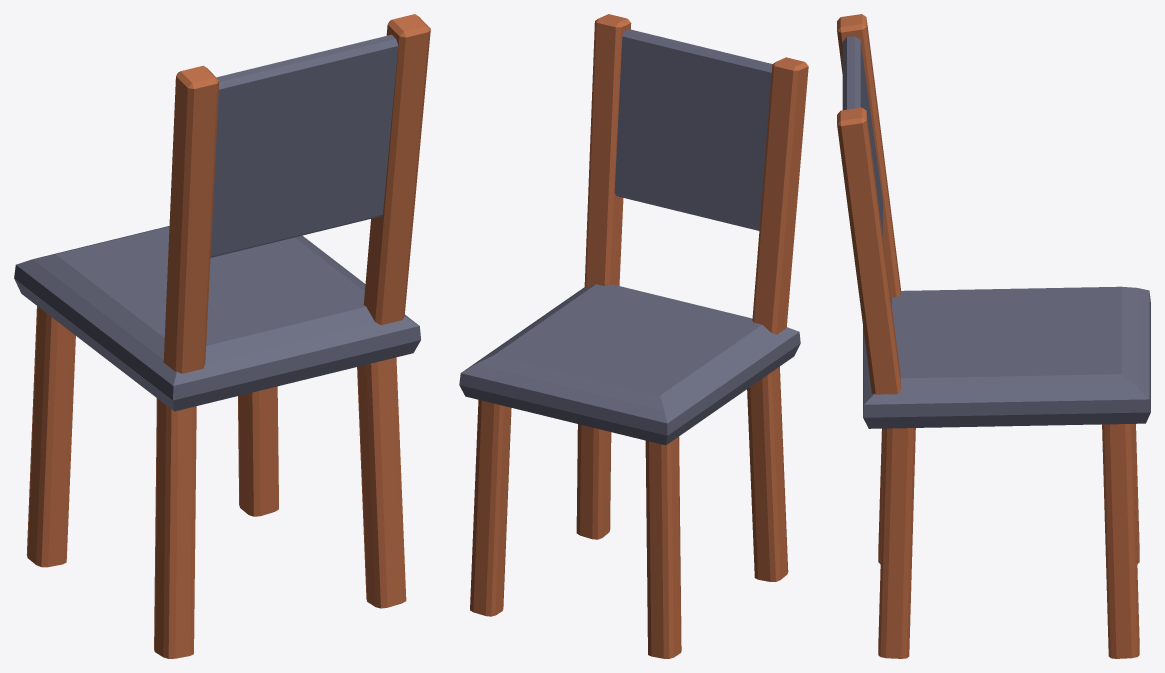
File: Chair1blue.fbx
The picture shows the model from 3 angles, left to right: view 1: azimuth 30°, elevation 25°; view 2: azimuth 150°, elevation 25°; view 3: azimuth 270°, elevation 25°; orthographic projection. The views are drawn at different scales.
Parts seen in each view (by area): view 1: chair 1 Blue; view 2: chair 1 Blue; view 3: chair 1 Blue.
Boxes of the visible parts, box(x1,y1,x2,y2) form: chair 1 Blue: box(14, 14, 430, 658); chair 1 Blue: box(459, 14, 808, 658); chair 1 Blue: box(837, 14, 1150, 658).
Bounding box in the file's own units: 135 × 310 × 163.
1 material, 1 textured.
